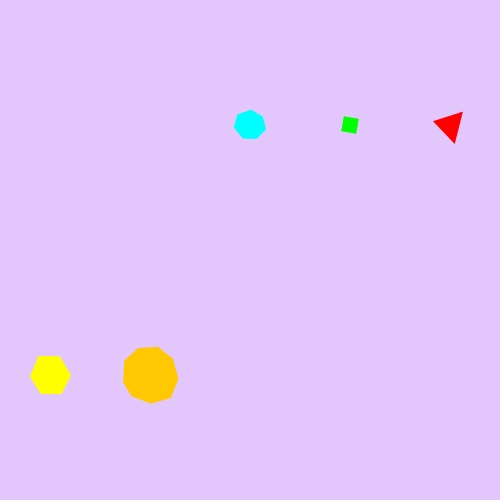heptagon: (231, 106, 270, 144)
hexagon: (25, 354, 76, 397)
nonagon: (118, 344, 183, 406)
quadrilateral: (335, 110, 365, 140)
triangle: (432, 106, 468, 144)
